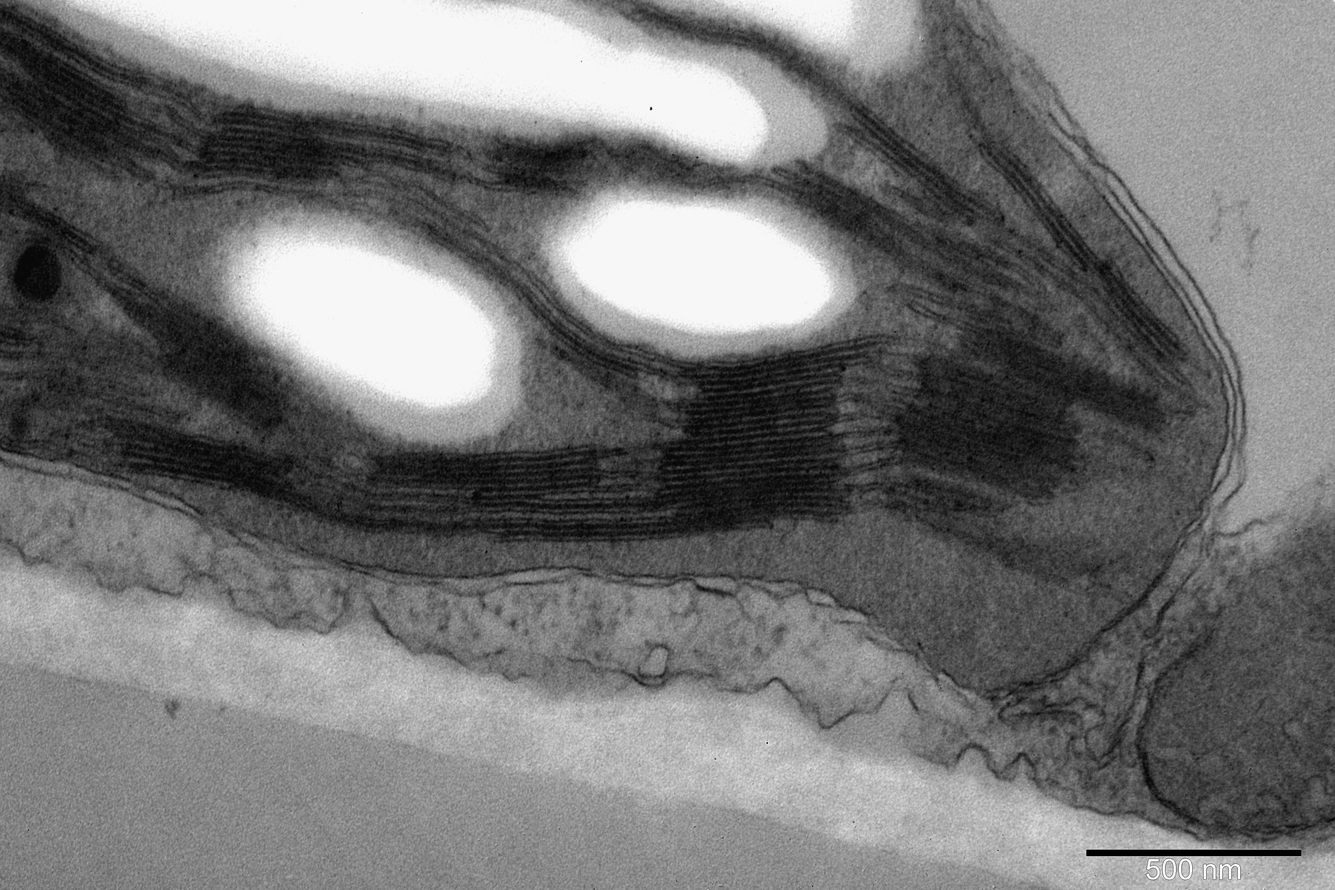granum: (499, 337, 867, 546), (974, 140, 1208, 417), (115, 273, 295, 431), (898, 351, 1076, 504), (951, 319, 1165, 431), (0, 28, 161, 175), (846, 102, 991, 229), (105, 409, 295, 504), (369, 443, 604, 515), (194, 104, 370, 189), (778, 158, 887, 255), (489, 136, 582, 201)
